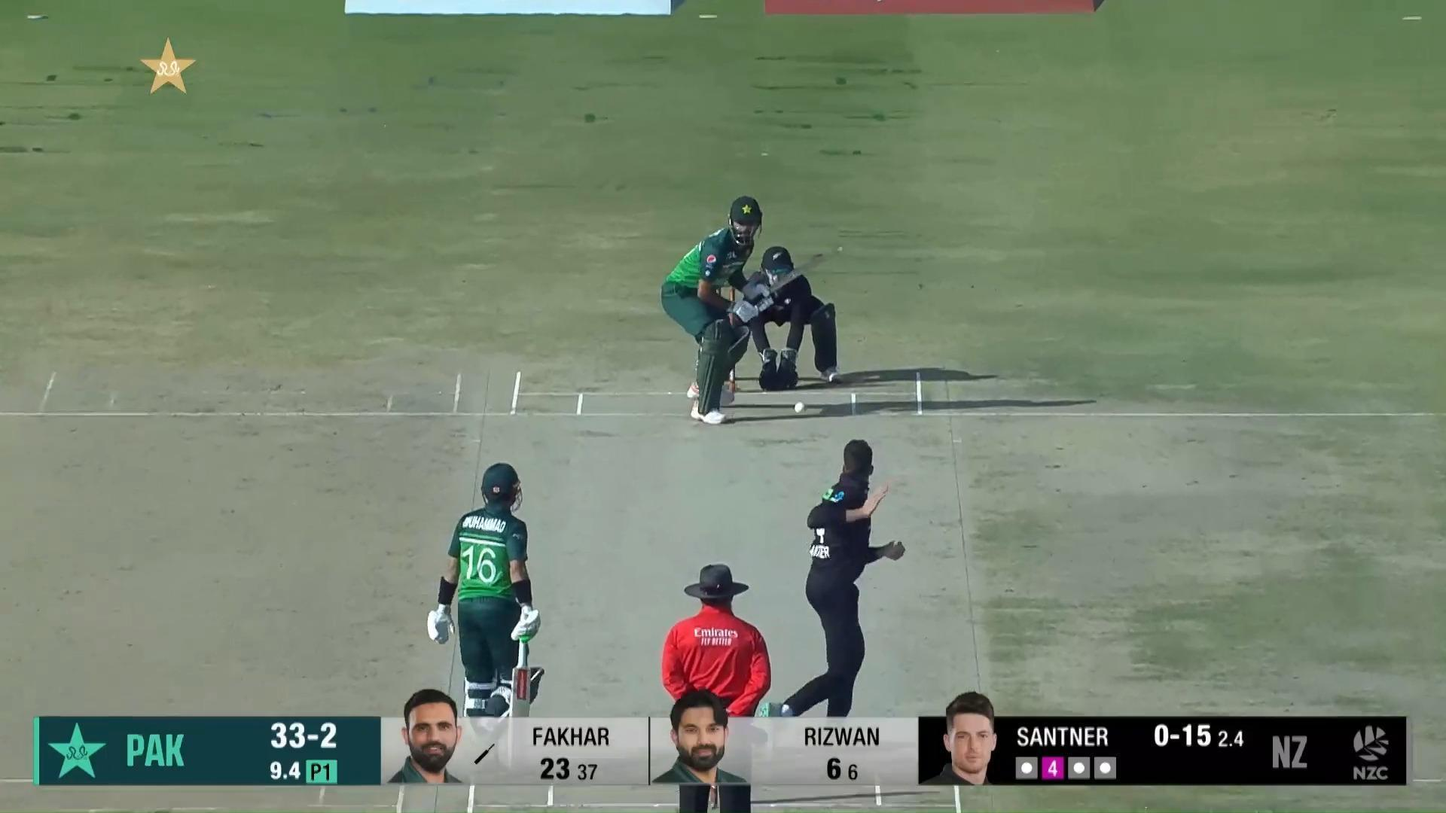BM 1: (661, 196, 844, 426)
BO: (759, 437, 908, 720)
